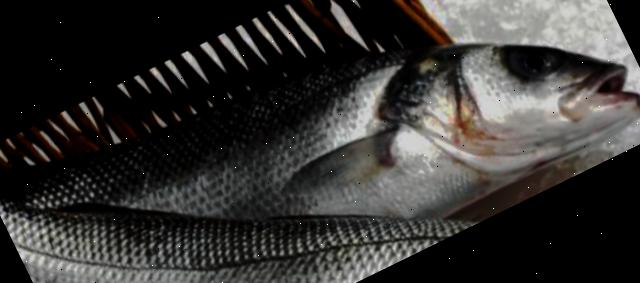Healthy Fish: (0, 41, 640, 220)
